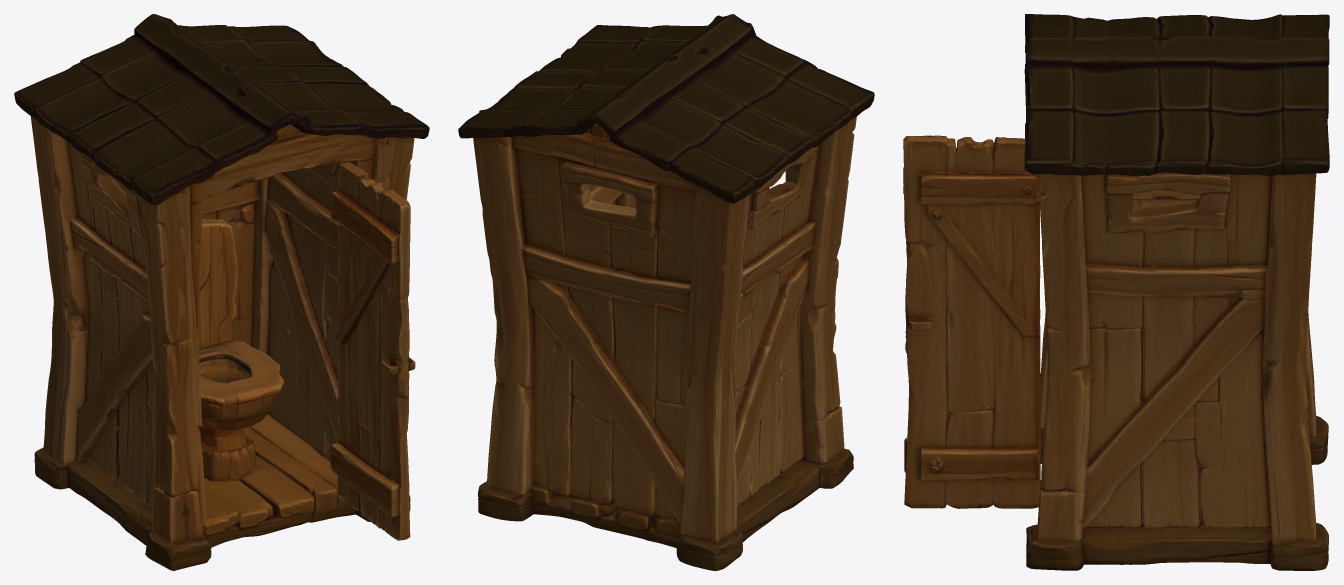
The model's file is wooden_outhouse_3d_model.fbx.
3 renders of one model, left to right at view 1: azimuth 30°, elevation 25°; view 2: azimuth 150°, elevation 25°; view 3: azimuth 270°, elevation 25°, orthographic. The views are drawn at different scales.
Parts seen in each view (by area): view 1: tripo_node_6dffe82c; view 2: tripo_node_6dffe82c; view 3: tripo_node_6dffe82c.
Part boxes in pixels (left/top/right/bottom): tripo_node_6dffe82c: left=14, top=14, right=429, bottom=570; tripo_node_6dffe82c: left=458, top=14, right=874, bottom=570; tripo_node_6dffe82c: left=903, top=14, right=1329, bottom=570.
Bounding box in the file's own units: 0.6661 × 0.98 × 0.8063.
